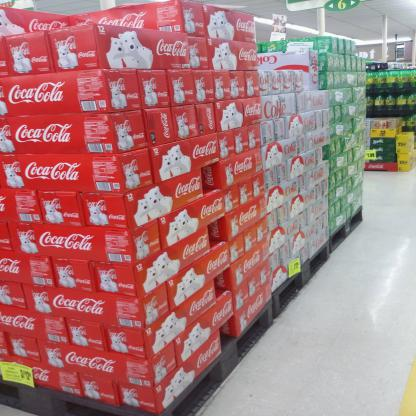Void: (217, 323, 238, 344), (211, 225, 230, 245), (202, 169, 220, 190), (216, 274, 230, 292), (324, 146, 331, 161)
